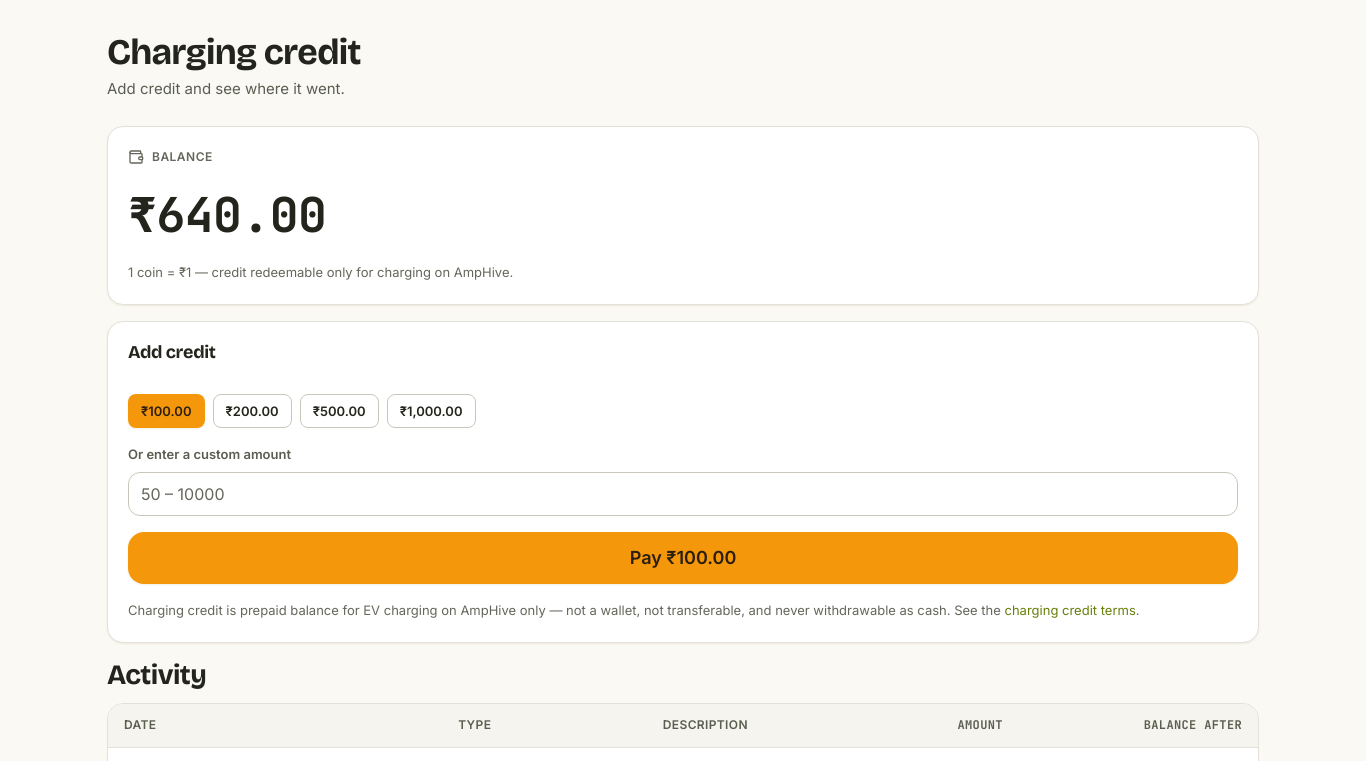
Test: checkout flow › verifies with ONLY the Razorpay ids/signature — no client amount — and refreshes
Click the button "Pay ₹100.00" at coordinates (683, 558), box [128, 532, 1238, 584]
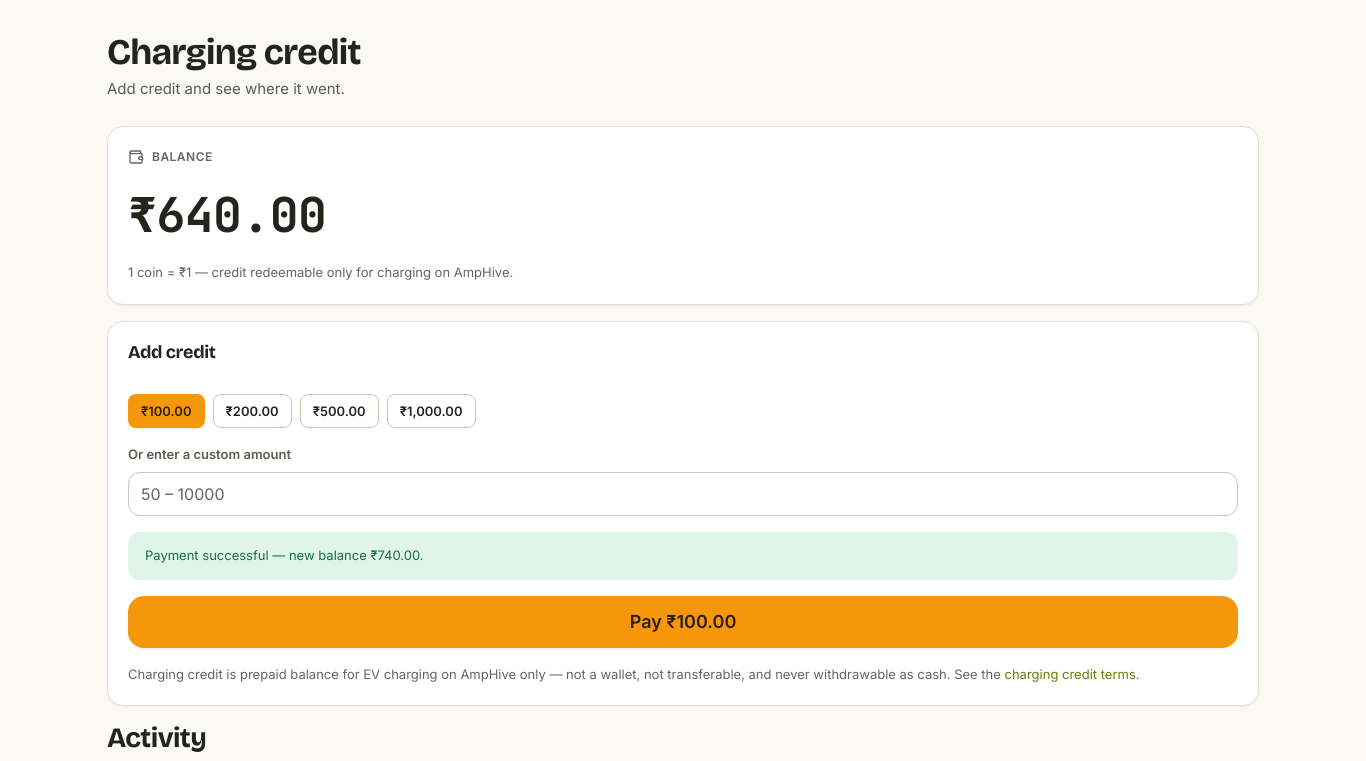
Now the text "Payment successful — new balance ₹740.00." is shown, box [145, 545, 424, 567]
